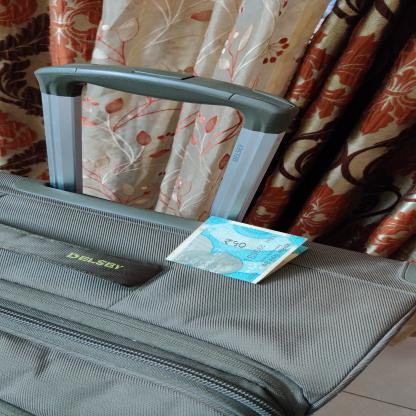New50Front: (162, 214, 314, 286)
